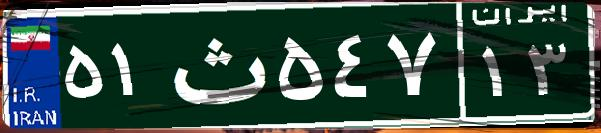1: (475, 38, 525, 113), (110, 28, 158, 105)
3: (525, 38, 570, 115)
4: (330, 28, 385, 110)
5: (273, 28, 330, 110), (57, 26, 110, 107)
7: (385, 28, 445, 110)
ث: (158, 15, 273, 115)
